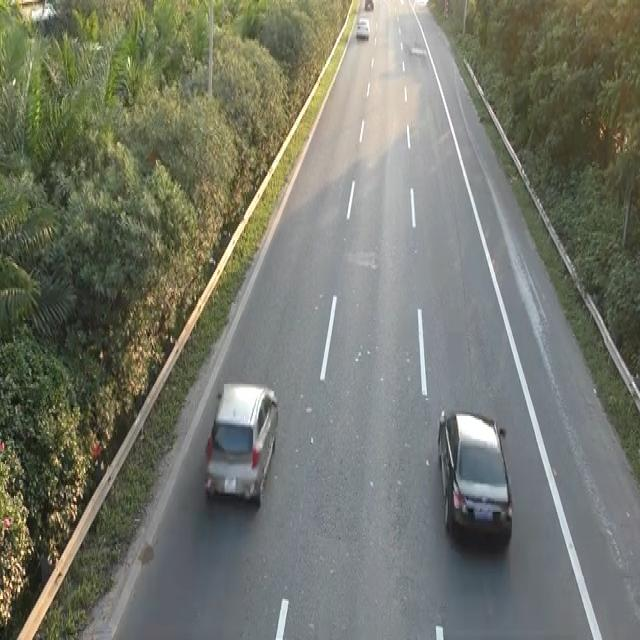bus: (435, 404, 514, 546), (202, 377, 279, 507)
